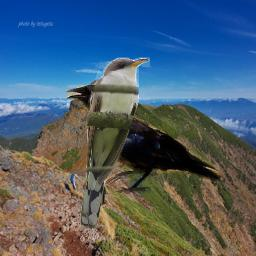Crow: (66, 84, 224, 194)
Cuckoo: (80, 57, 150, 230)
